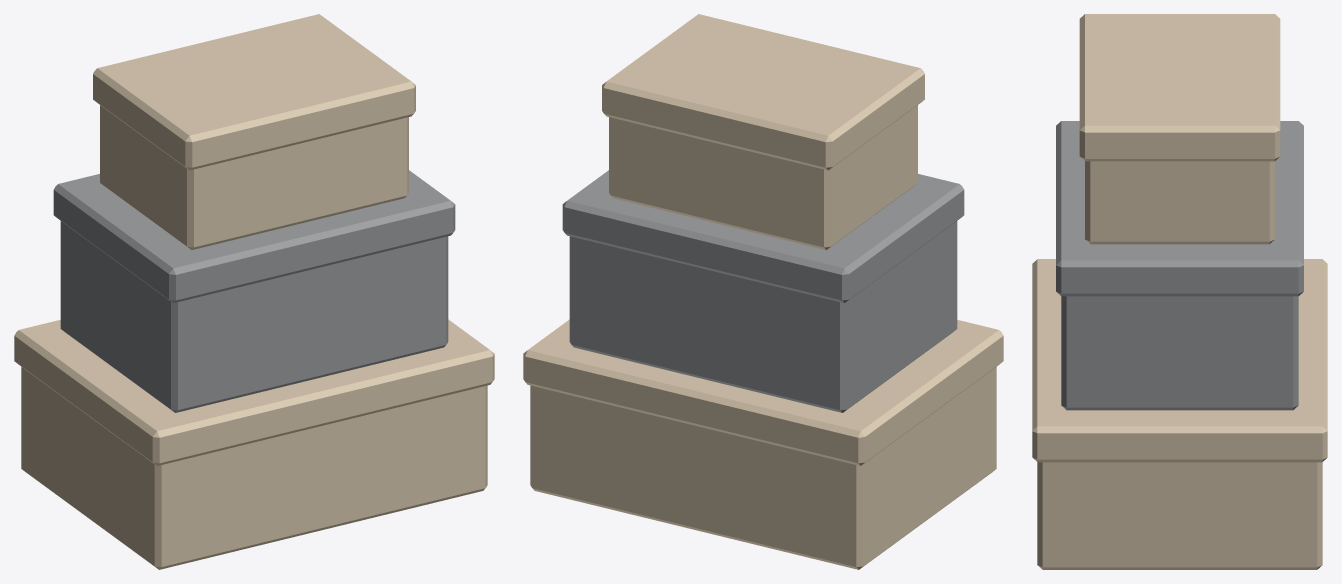
The model's file is i_boxes_2.glb.
3 renders of one model, left to right at view 1: azimuth 30°, elevation 25°; view 2: azimuth 150°, elevation 25°; view 3: azimuth 270°, elevation 25°, orthographic. The views are drawn at different scales.
Visible parts, largest first — view 1: o, o.002, o.005, o.004, o.001, o.003; view 2: o, o.002, o.005, o.004, o.001, o.003; view 3: o, o.002, o.005, o.001, o.003, o.004.
Part boxes in pixels (x1,y1,x2,y2): o: (21, 322, 487, 569); o.002: (60, 174, 448, 412); o.005: (93, 14, 415, 170); o.004: (100, 90, 408, 250); o.001: (14, 319, 494, 465); o.003: (53, 170, 455, 303); o: (530, 322, 996, 569); o.002: (569, 174, 957, 412); o.005: (602, 14, 924, 170); o.004: (609, 93, 917, 250); o.001: (523, 319, 1003, 465); o.003: (562, 170, 964, 303); o: (1037, 261, 1322, 569); o.002: (1061, 123, 1298, 410); o.005: (1079, 14, 1280, 161); o.001: (1032, 259, 1327, 462); o.003: (1056, 121, 1303, 296); o.004: (1085, 89, 1274, 244).
Size of the model in its own units: 0.308 by 0.3502 by 0.224.
